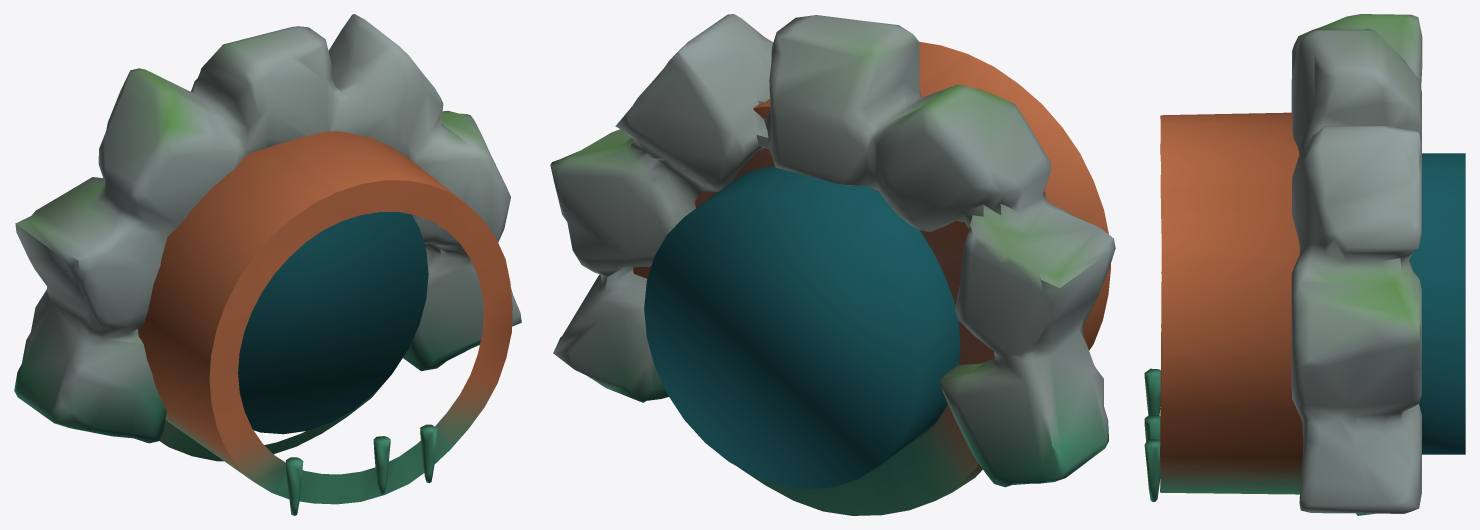
The model's file is grotto_burrow.glb.
3 views of the same model, side by side, from view 1: azimuth 30°, elevation 25°; view 2: azimuth 150°, elevation 25°; view 3: azimuth 270°, elevation 25° (orthographic). The views are drawn at different scales.
Visible parts, largest first — view 1: grotto_burrow; view 2: grotto_burrow; view 3: grotto_burrow.
Boxes of the visible parts, x1=… form: grotto_burrow: x1=14, y1=14, x2=521, y2=515; grotto_burrow: x1=550, y1=14, x2=1115, y2=515; grotto_burrow: x1=1144, y1=14, x2=1465, y2=515.
Bounding box in the file's own units: 7.82 × 6.83 × 4.43.
